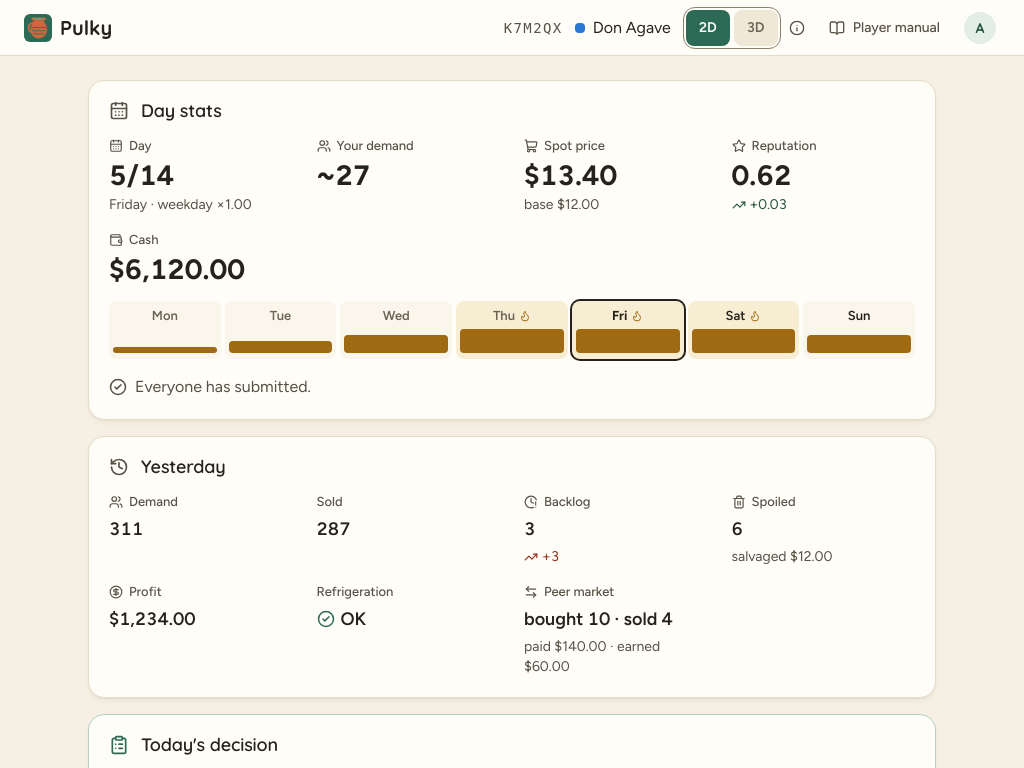
the toggle in the header (acceptance 3) › failure mode 3: without support 3D is disabled and the reason is in its InfoTip
The width and height of the screenshot is (1024, 768).
Expected: the button "3D" is disabled, x1=734 y1=10 x2=778 y2=46
Focus the button named "About 3D view" at (797, 28), box x1=785 y1=16 x2=809 y2=40
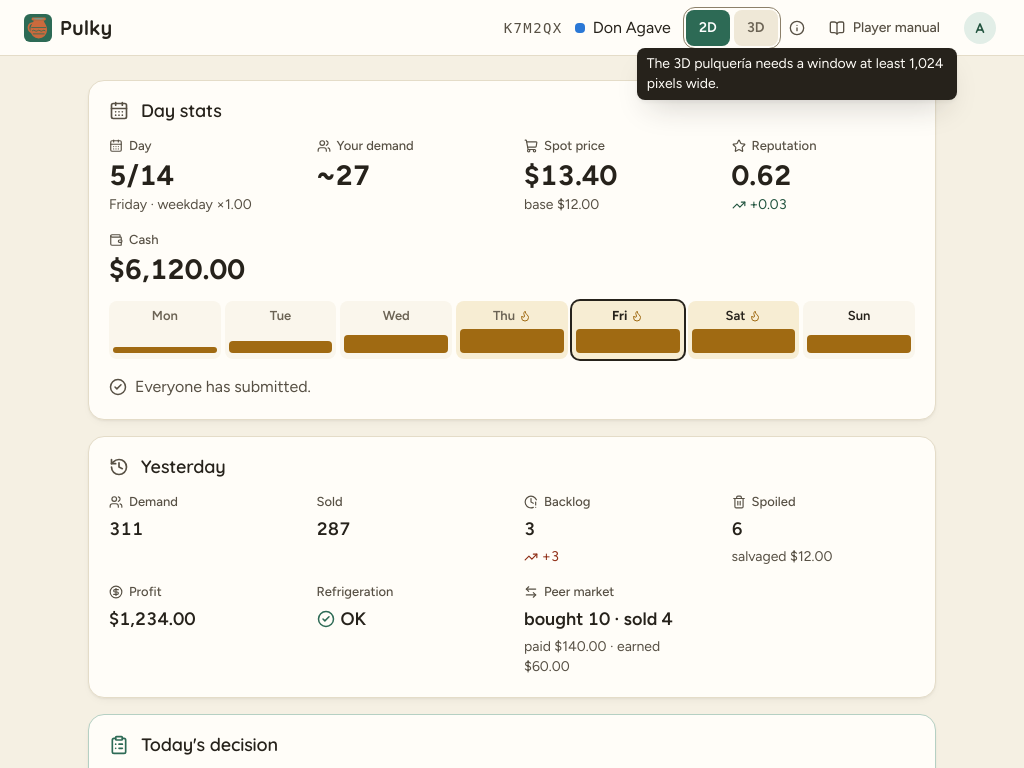
Expected: the tooltip reads "The 3D pulquería needs a window at least 1,024 pixels wide.", x1=647 y1=54 x2=943 y2=92
